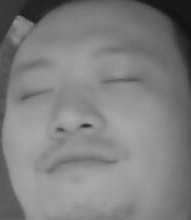blink: (100, 71, 137, 93), (15, 84, 53, 104)
mouth: (42, 145, 114, 183)
